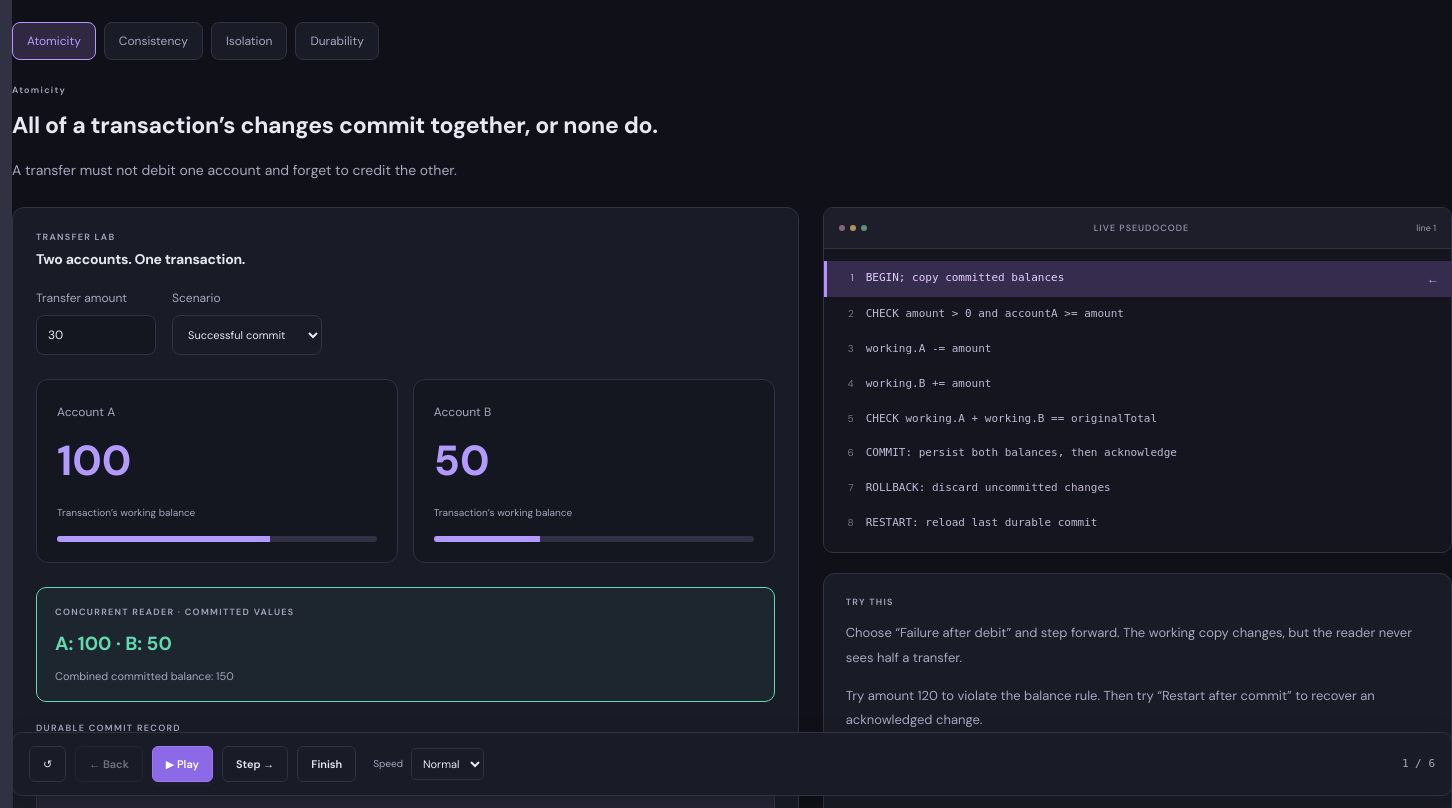
Test case: ACID walkthrough hides partial writes and recovers after a rollback
Select "Failure after debit" in the dropdown labelled "Scenario". click: (247, 335)
box: [172, 315, 322, 355]
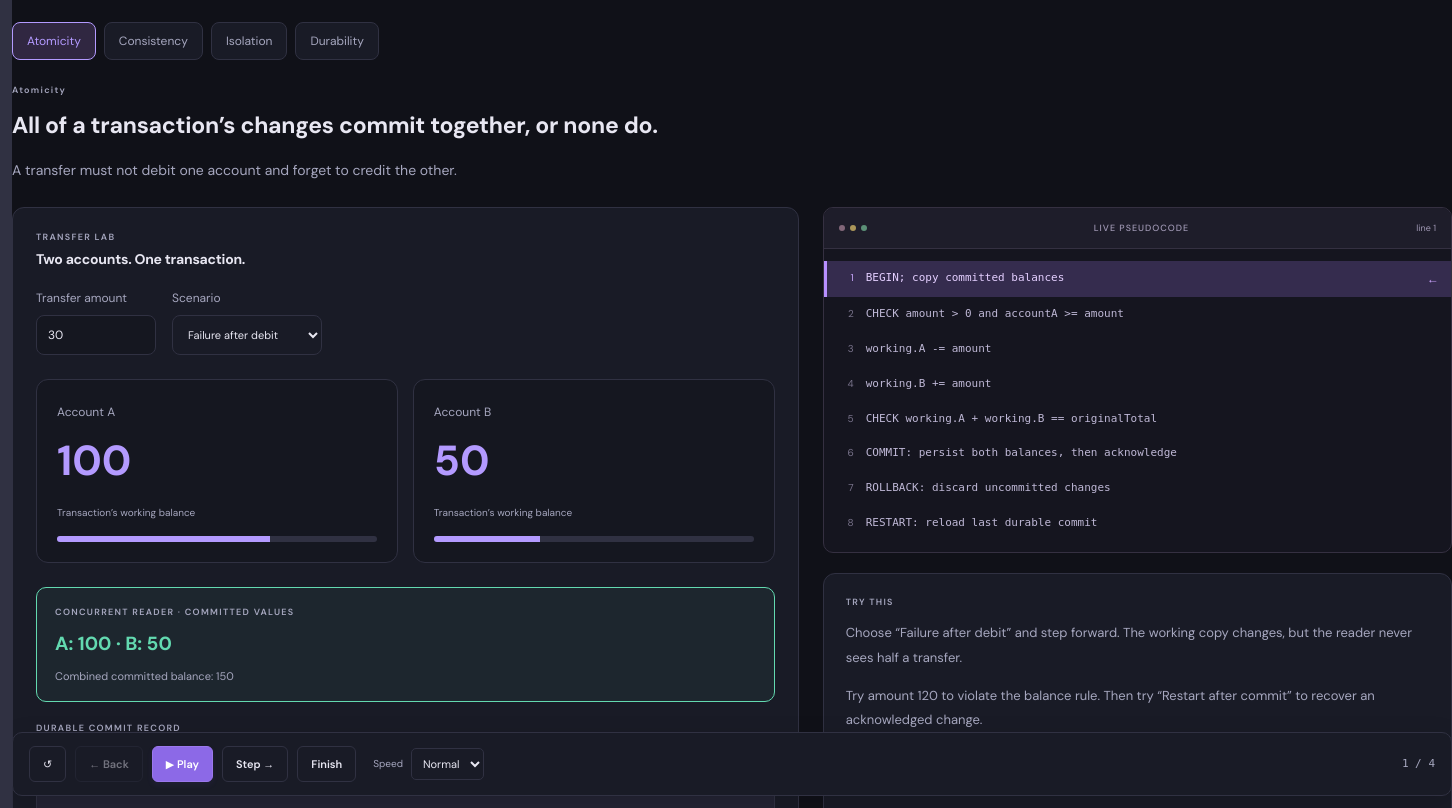
Click the button "Step →". click: (255, 764)
box: [222, 746, 288, 782]
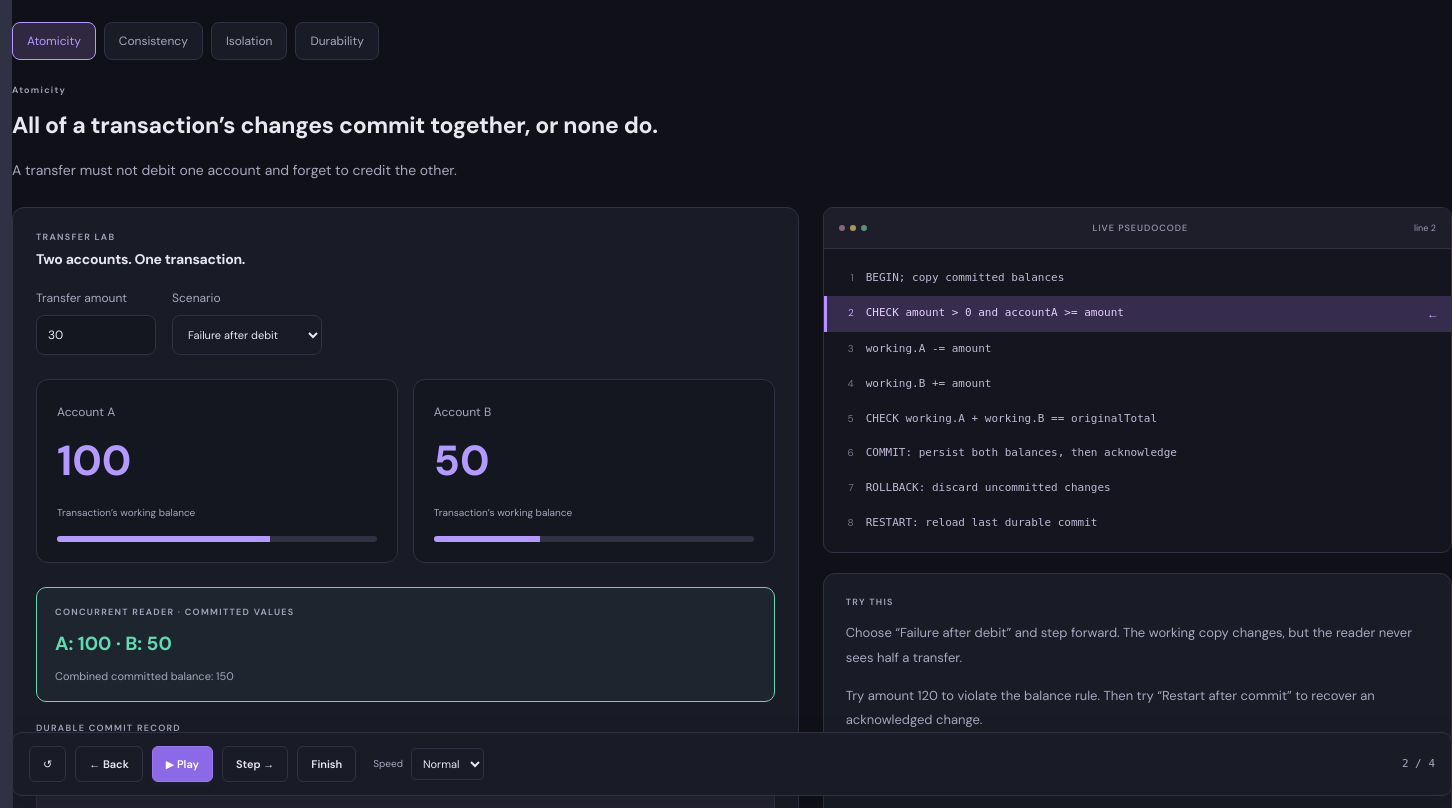
Click the button "Step →". click: (255, 764)
box: [222, 746, 288, 782]
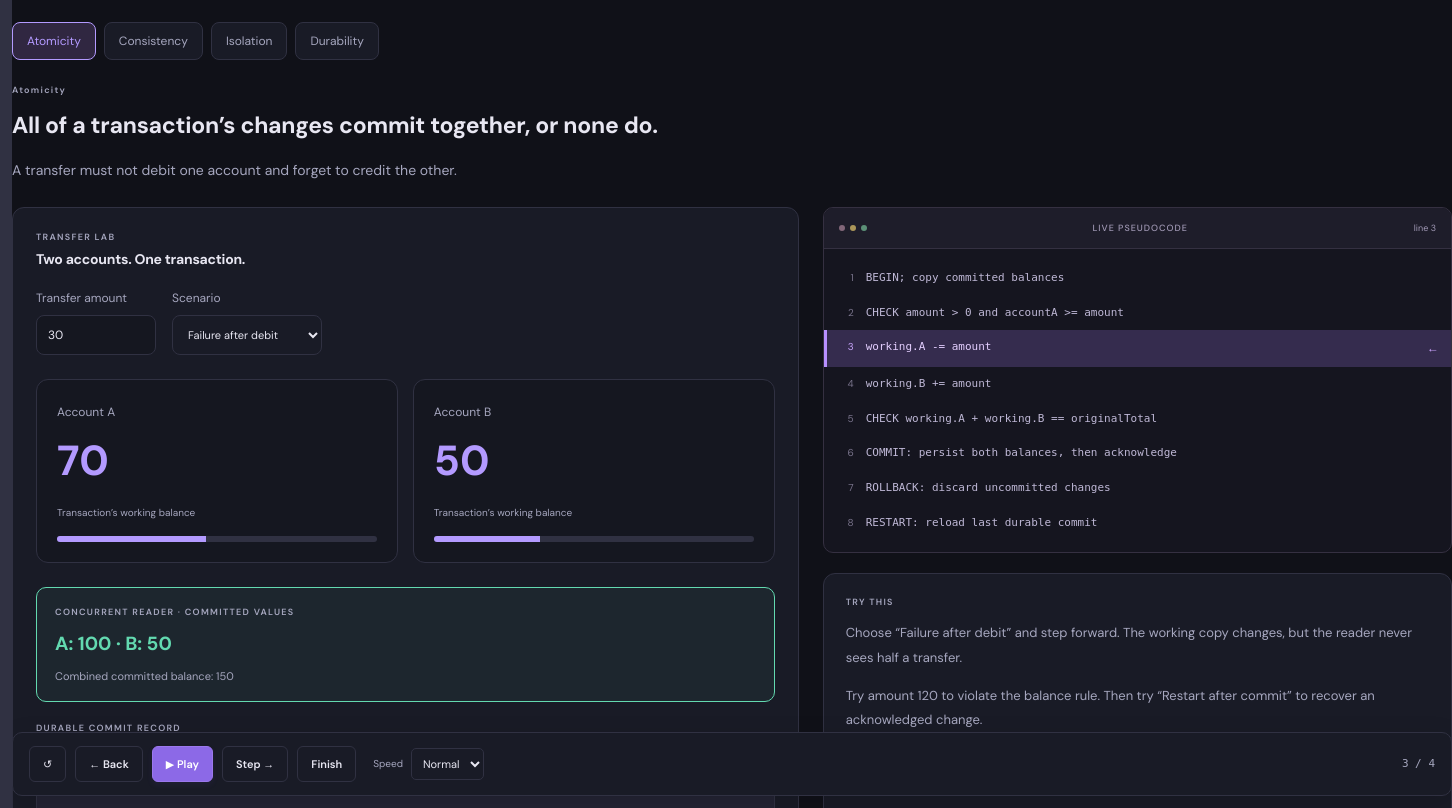
Expected: the text "A: 100 · B: 50" is shown, [55, 631, 172, 656]
Expected: the text "70" is shown, [57, 433, 109, 488]
Click the button "Finish". click: (327, 764)
box: [297, 746, 356, 782]
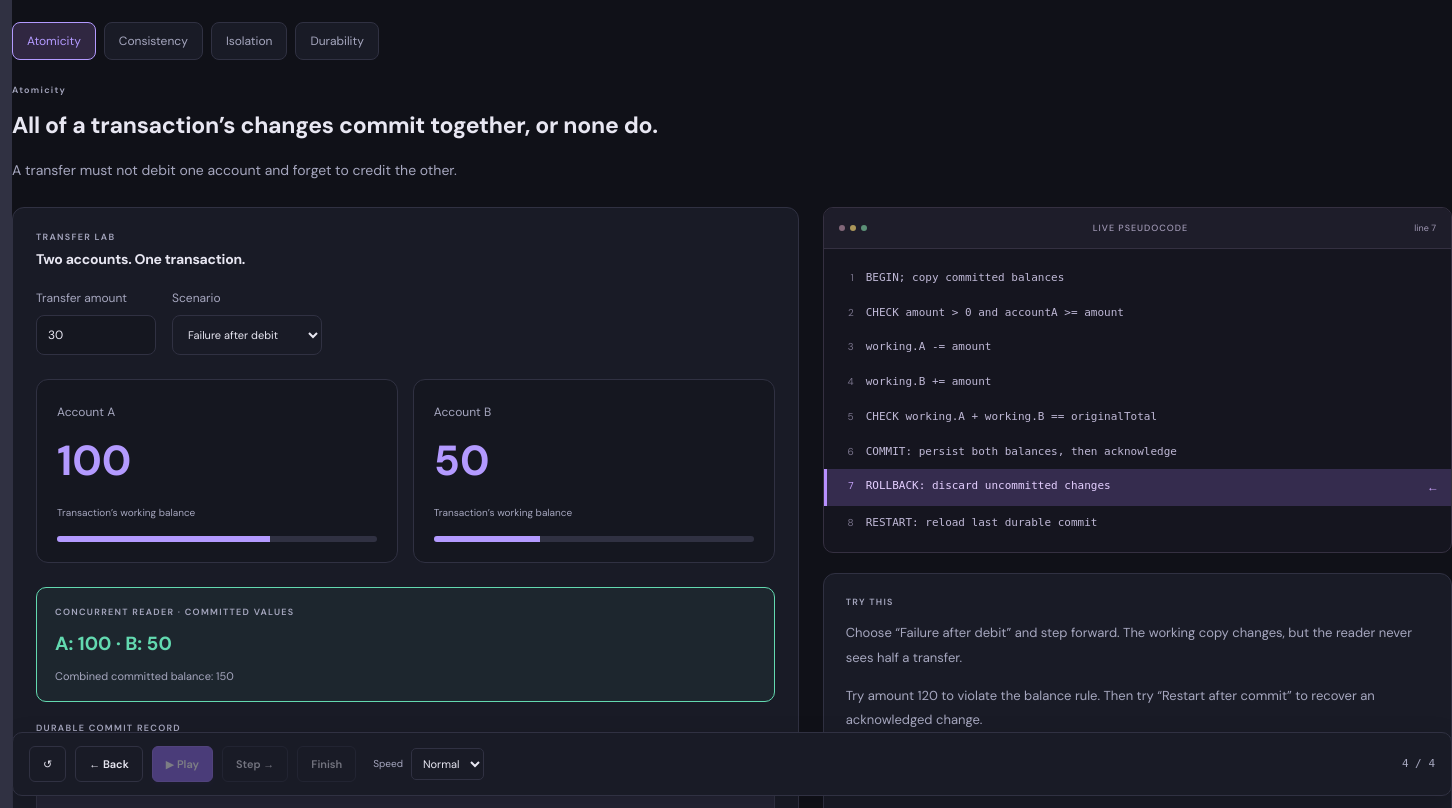
Expected: the text "100" is shown, [57, 433, 131, 488]
Select "Restart after commit" in the dropdown labelled "Scenario". click: (247, 335)
box: [172, 315, 322, 355]
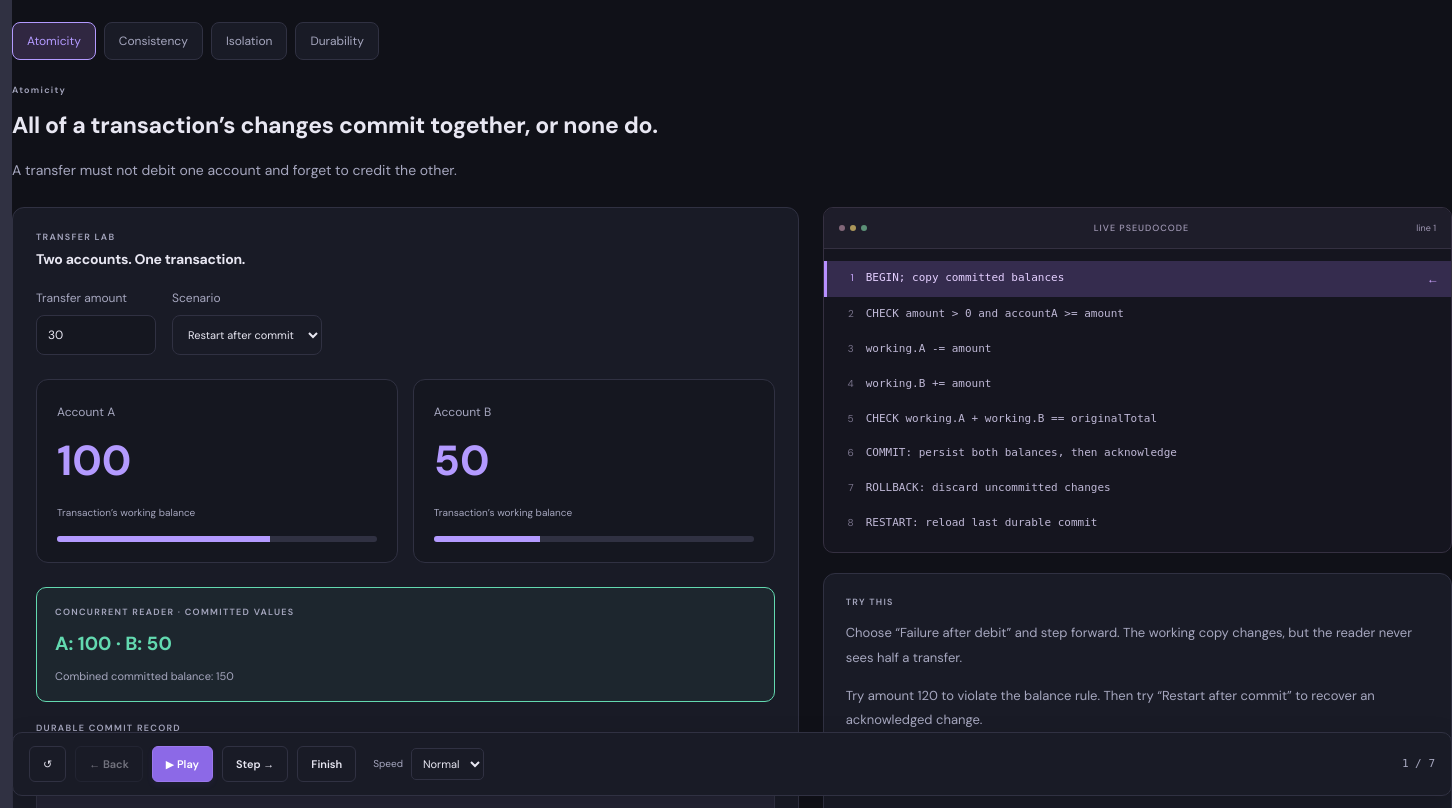
Click the button "Finish". click: (327, 764)
box: [297, 746, 356, 782]
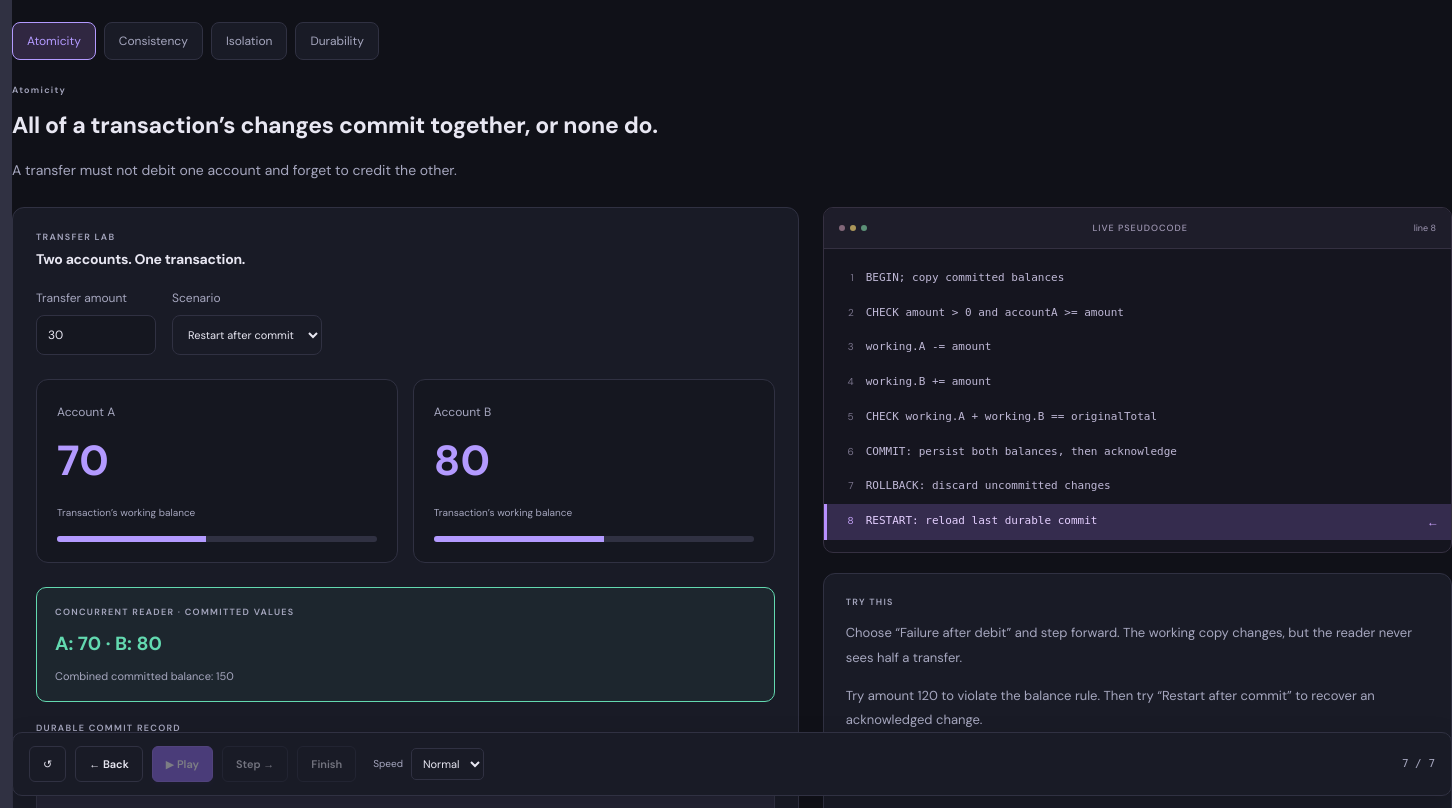
Expected: the text "A: 70 · B: 80" is shown, [55, 631, 162, 656]
